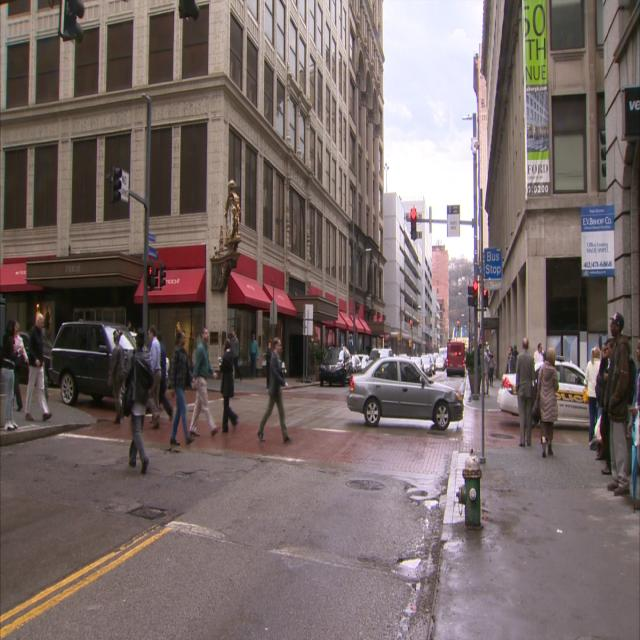body: (603, 310, 631, 497), (121, 327, 154, 475), (256, 336, 294, 445), (188, 327, 221, 437), (167, 329, 197, 448), (23, 312, 52, 424), (0, 318, 24, 432), (536, 345, 559, 458), (599, 337, 616, 476), (515, 335, 536, 447), (217, 336, 239, 436), (141, 327, 161, 430), (152, 330, 174, 422), (106, 328, 125, 425), (584, 346, 602, 446), (594, 342, 608, 461), (12, 321, 29, 413), (477, 341, 496, 396), (626, 338, 637, 423), (622, 340, 636, 405), (248, 334, 259, 380), (230, 329, 240, 379), (533, 342, 544, 379), (265, 341, 272, 390), (505, 345, 516, 374), (125, 320, 136, 333), (512, 343, 519, 361), (541, 349, 547, 362)
